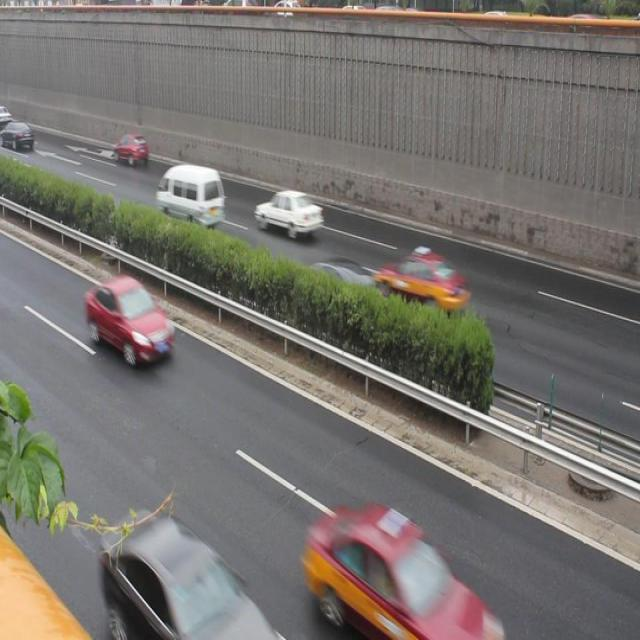car: (310, 492, 502, 640), (100, 507, 284, 640), (82, 273, 174, 369), (377, 242, 469, 321), (303, 250, 378, 321), (251, 182, 325, 248), (111, 130, 150, 167)
truck: (149, 162, 223, 235)
